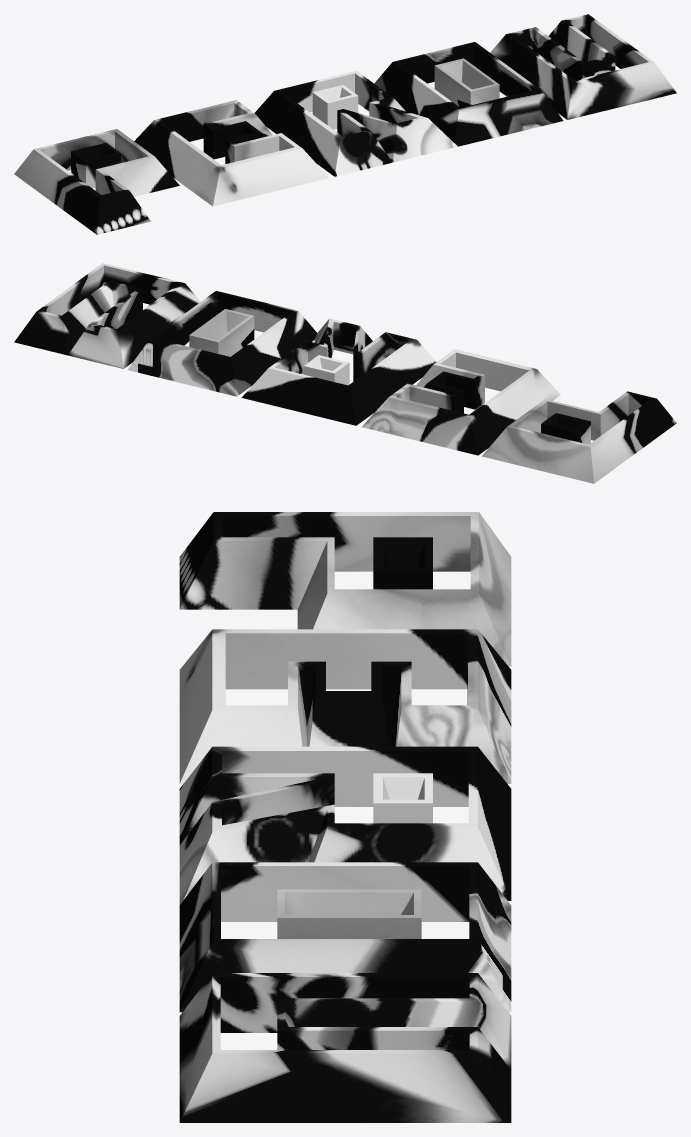
File: peruGold.gltf
3 renders of one model, top to bottom at view 1: azimuth 30°, elevation 25°; view 2: azimuth 150°, elevation 25°; view 3: azimuth 270°, elevation 25°, orthographic. The views are drawn at different scales.
Parts seen in each view (by area): view 1: Plane.001; view 2: Plane.001; view 3: Plane.001.
Part boxes in pixels (x1,y1,x2,y2): Plane.001: (14, 14, 676, 234); Plane.001: (14, 263, 676, 483); Plane.001: (179, 512, 511, 1122).
Size of the model in its own units: 14.79 by 0.6819 by 3.66.
Materials: 1 (1 with a texture image).
